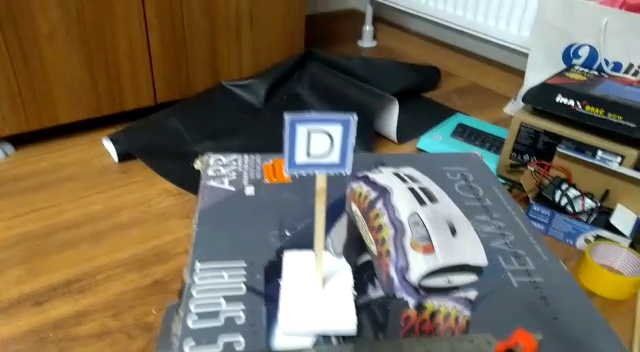durak: (276, 116, 352, 170)
